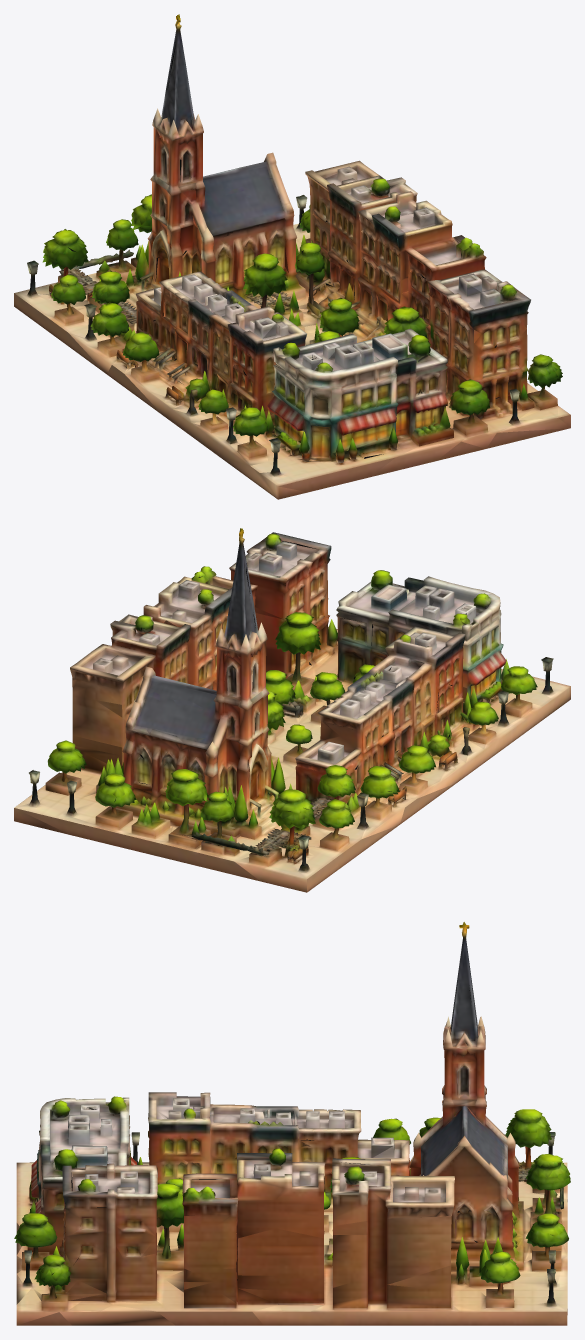
File: block-harlem-a.glb
3 renders of one model, top to bottom at view 1: azimuth 30°, elevation 25°; view 2: azimuth 150°, elevation 25°; view 3: azimuth 270°, elevation 25°, orthographic. The views are drawn at different scales.
Visible parts, largest first — view 1: low; view 2: low; view 3: low.
Part boxes in pixels (x1,y1,x2,y2): low: (14,14,570,499); low: (14,528,570,892); low: (14,922,570,1325).
Bounding box in the file's own units: 0.6514 × 0.6083 × 0.981.
Materials: 1 (1 with a texture image).
